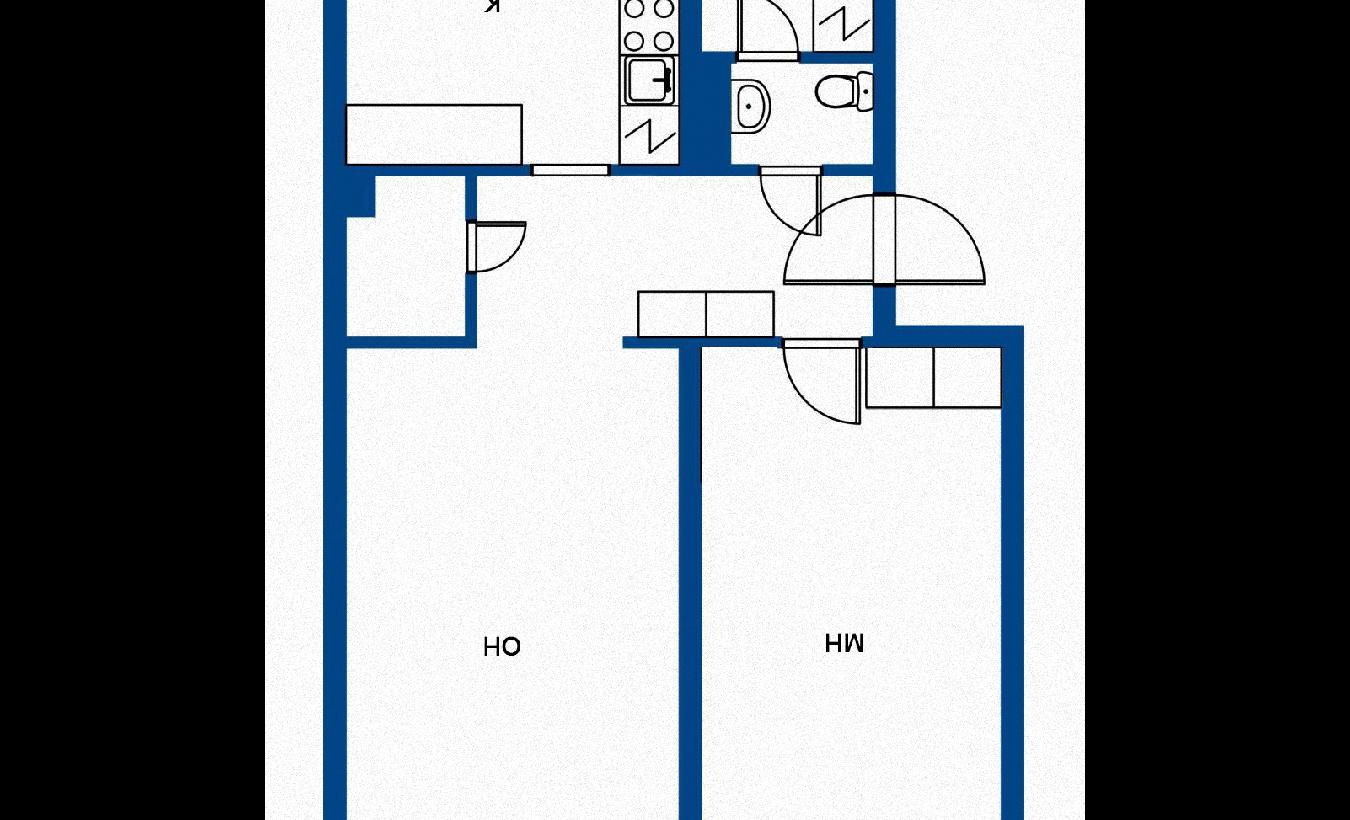door: (775, 187, 993, 288), (775, 339, 870, 449), (751, 164, 832, 239), (464, 205, 535, 278)
zone: (345, 170, 873, 820), (696, 343, 998, 820), (346, 0, 679, 162), (347, 174, 468, 336), (728, 63, 875, 169)
